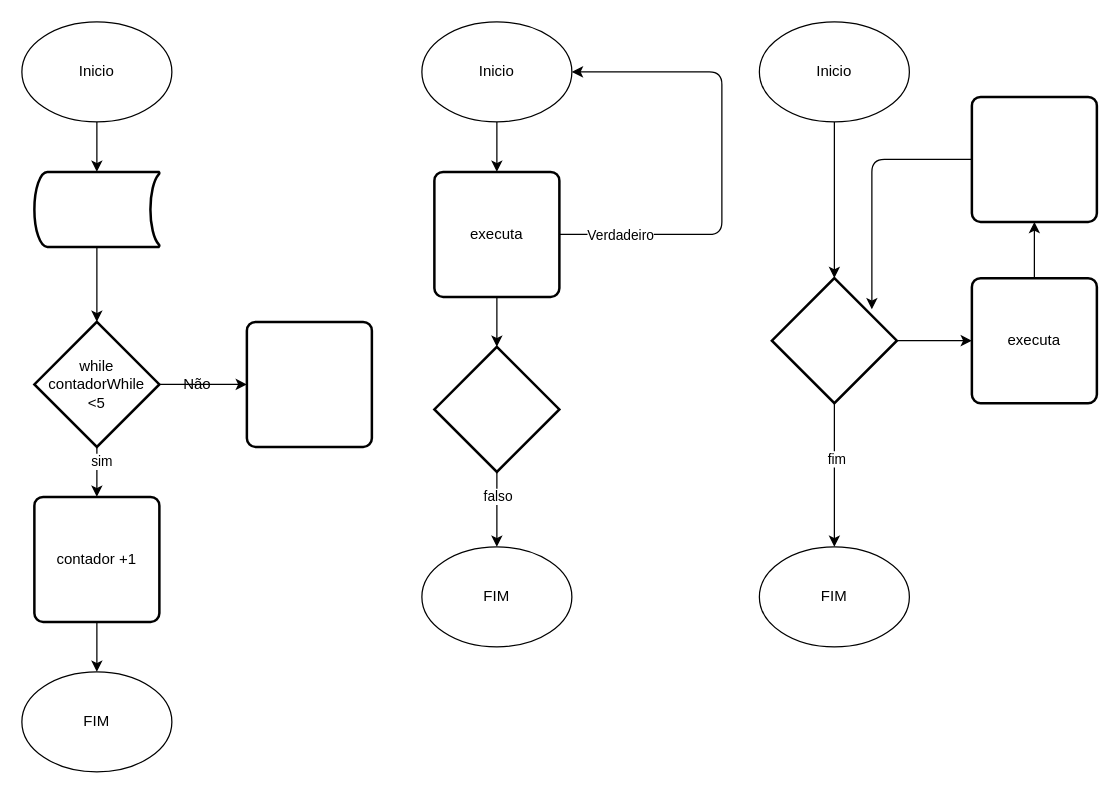
Some shapes in this 1120 by 794 pixel diagram are drawn without their labels. Each missing label, with the centre of its shape:
"condição" goes at point (496, 408).
"Contador while = 0" goes at point (96, 209).
"false" goes at point (308, 384).
"incrementa a contagem" goes at point (1034, 158).
"ultima" goes at point (834, 340).
